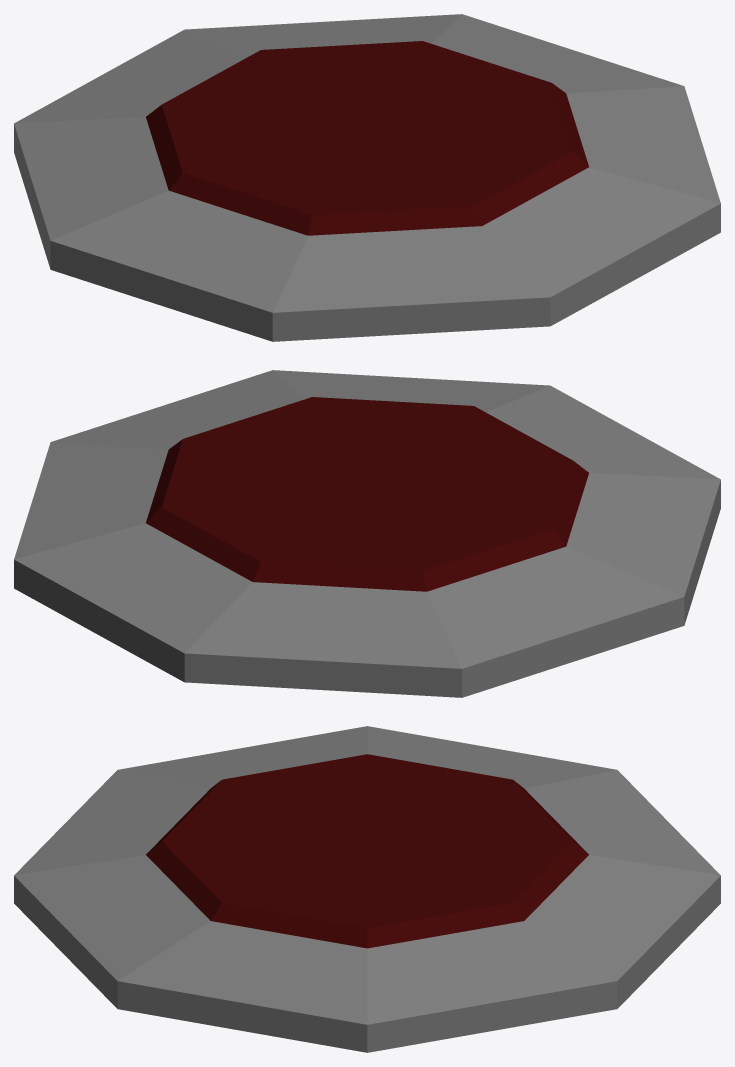
Rendered from pressure_plate_off.glb.
3 views of the same model, one above another, from view 1: azimuth 30°, elevation 25°; view 2: azimuth 150°, elevation 25°; view 3: azimuth 270°, elevation 25° (orthographic). The views are drawn at different scales.
Parts seen in each view (by area): view 1: pressure_plate_off; view 2: pressure_plate_off; view 3: pressure_plate_off.
Boxes of the visible parts, left/top/right/bottom form: pressure_plate_off: left=14, top=14, right=720, bottom=341; pressure_plate_off: left=14, top=370, right=720, bottom=697; pressure_plate_off: left=14, top=726, right=720, bottom=1052.
Size of the model in its own units: 2 by 0.1946 by 2.
Materials: 1 (1 with a texture image).
